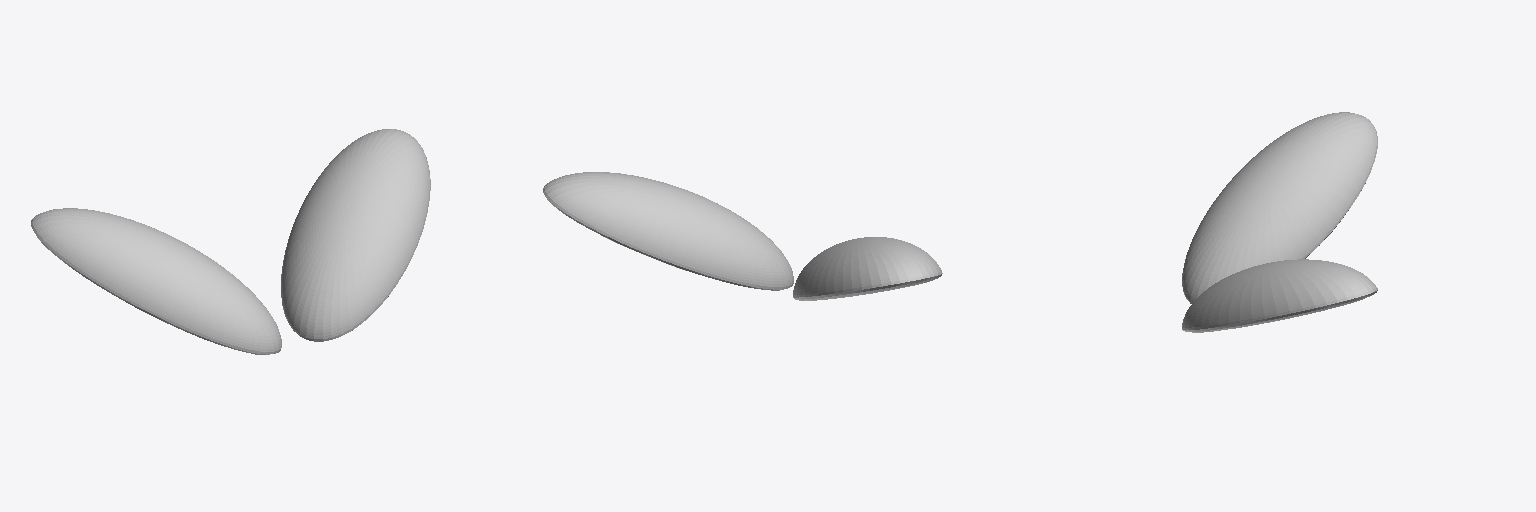
The model's file is eyeup.obj.
3 views of the same model, side by side, from view 1: azimuth 30°, elevation 25°; view 2: azimuth 150°, elevation 25°; view 3: azimuth 270°, elevation 25° (orthographic).
Parts seen in each view (by area): view 1: head:MeshpolySurface41, head:MeshpolySurface42; view 2: head:MeshpolySurface41, head:MeshpolySurface42; view 3: head:MeshpolySurface42, head:MeshpolySurface41.
Boxes of the visible parts, box(x1,y1,x2,y2) form: head:MeshpolySurface41: box(281, 129, 430, 341); head:MeshpolySurface42: box(31, 208, 281, 354); head:MeshpolySurface41: box(543, 172, 793, 290); head:MeshpolySurface42: box(793, 237, 942, 300); head:MeshpolySurface42: box(1182, 112, 1377, 303); head:MeshpolySurface41: box(1182, 259, 1377, 332).
Size of the model in its own units: 0.2996 by 0.0902 by 0.1334.